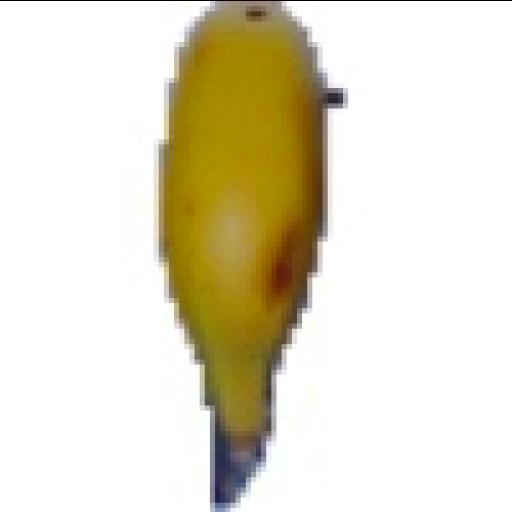banana: (159, 1, 343, 502)
